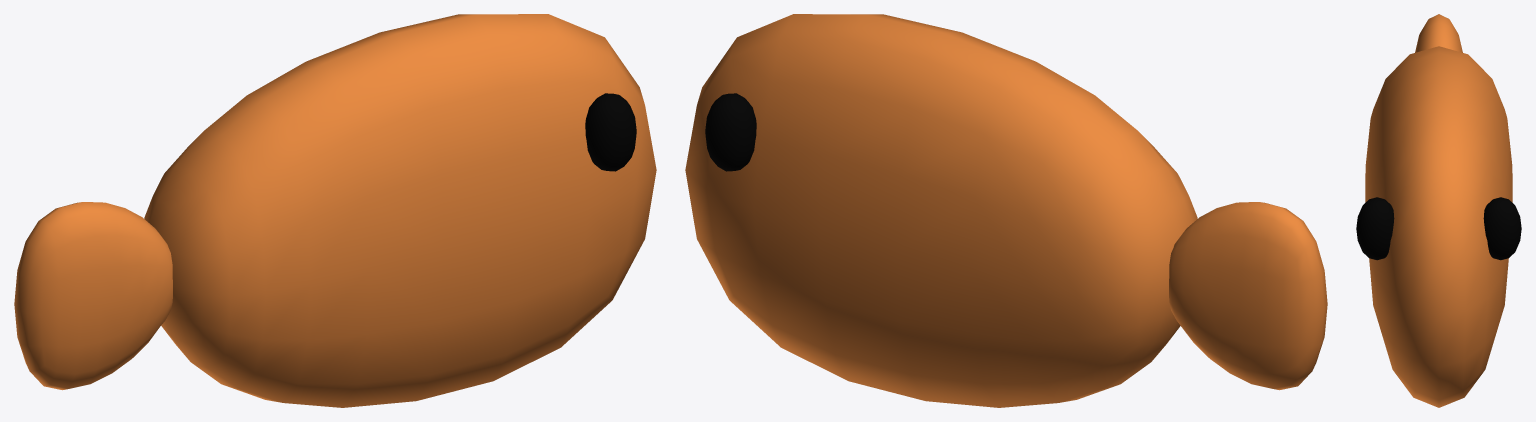
The model's file is FISH.fbx.
3 renders of one model, left to right at view 1: azimuth 30°, elevation 25°; view 2: azimuth 150°, elevation 25°; view 3: azimuth 270°, elevation 25°, orthographic. The views are drawn at different scales.
Parts seen in each view (by area): view 1: Plane.001; view 2: Plane.001; view 3: Plane.001.
Boxes of the visible parts, x1,y1,x2,y2 form: Plane.001: (14, 14, 656, 407); Plane.001: (685, 14, 1327, 407); Plane.001: (1356, 14, 1521, 407).
Size of the model in its own units: 627 by 347 by 178.
